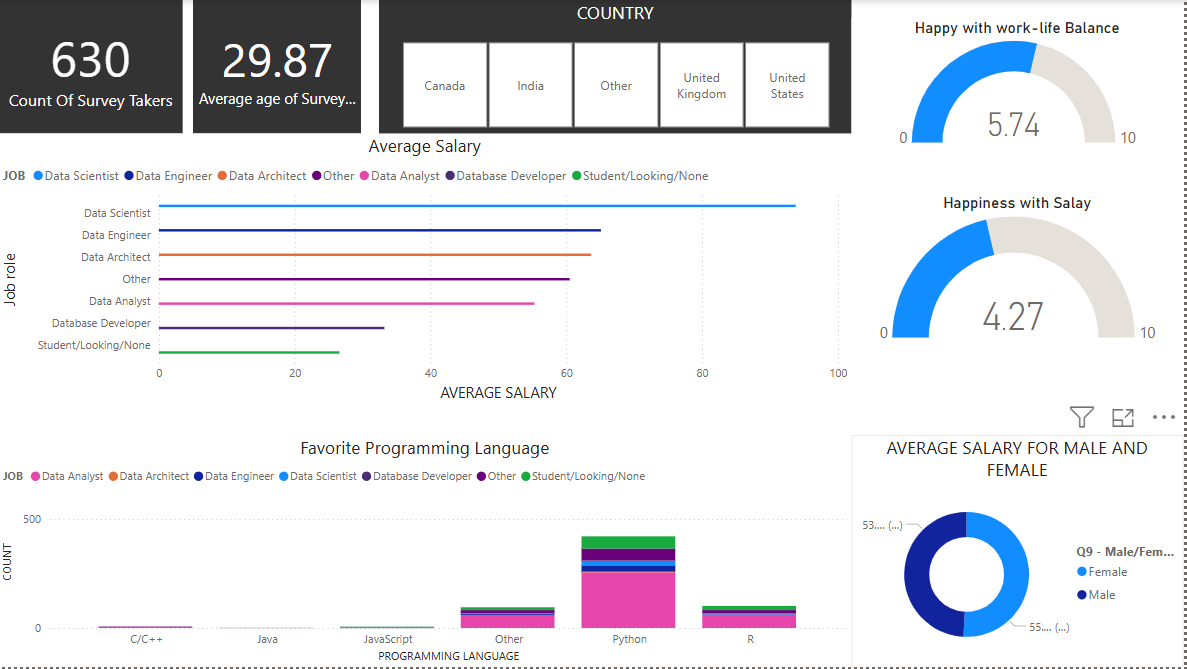

Layout of this report page (visuals, bound fields, positions):
{"tool":"powerbi","page":{"name":"Page 1","canvas":[1280,720],"ordinal":0},"visuals":[{"type":"card","fields":{"Values":["Data Professional Survey.UNIQUE COUNT"]},"box":[0,0,199.2,144.1],"z":0},{"type":"card","fields":{"Values":["Avg(Data Professional Survey.Q10 - Current Age)"]},"box":[210.5,0,181.4,144.1],"z":1000},{"type":"clusteredBarChart","title":"Average Salary ","fields":{"Series":["Data Professional Survey.Q1 - Which Title Best Fits your Current Role?.1"],"Category":["Data Professional Survey.Q1 - Which Title Best Fits your Current Role?.1"],"Y":["Avg(Data Professional Survey.AVERAGE)"]},"box":[0,144.1,921.3,294.7],"z":2000},{"type":"columnChart","title":"Favorite Programming Language","fields":{"Category":["Data Professional Survey.Q5 - Favorite Programming Language.1"],"Y":["CountNonNull(Data Professional Survey.Unique ID)"],"Series":["Data Professional Survey.Q1 - Which Title Best Fits your Current Role?.1"]},"box":[0,469.6,921.3,251],"z":3000},{"type":"slicer","title":"COUNTRY","fields":{"Values":["Data Professional Survey.Q11 - Which Country do you live in?.1"]},"box":[411.3,0,510.1,144.1],"z":4000},{"type":"gauge","title":"Happy with work-life Balance","fields":{"Y":["Avg(Data Professional Survey.Q6 - How Happy are you in your Current Position with the following? (Work/Life Balance))"],"MinValue":["Min(Data Professional Survey.Q6 - How Happy are you in your Current Position with the following? (Work/Life Balance))"],"MaxValue":["Max(Data Professional Survey.Q6 - How Happy are you in your Current Position with the following? (Work/Life Balance))1"]},"box":[921.3,19.4,357.8,144.1],"z":5000},{"type":"gauge","title":"Happiness with Salay","fields":{"Y":["Avg(Data Professional Survey.Q6 - How Happy are you in your Current Position with the following? (Salary))"],"MinValue":["Min(Data Professional Survey.Q6 - How Happy are you in your Current Position with the following? (Salary))1"],"MaxValue":["Max(Data Professional Survey.Q6 - How Happy are you in your Current Position with the following? (Salary))2"]},"box":[921.3,208.9,357.8,165.2],"z":6000},{"type":"donutChart","title":"AVERAGE SALARY FOR MALE AND FEMALE","fields":{"Y":["Avg(Data Professional Survey.AVERAGE)"],"Series":["Data Professional Survey.Q9 - Male/Female?"]},"box":[921.3,469.6,357.8,251],"z":7000}]}

Visuals, with their boxes in screenshot pixels (x1, y1, x2, y2), scaled from the page's 1280x720 canvas onto the 1187x669 screenshot:
card - Data Professional Survey.UNIQUE COUNT: 0,0,185,134
card - Avg(Data Professional Survey.Q10 - Current Age): 195,0,363,134
"Average Salary " clusteredBarChart: 0,134,854,408
"Favorite Programming Language" columnChart: 0,436,854,668
"COUNTRY" slicer: 381,0,854,134
"Happy with work-life Balance" gauge: 854,18,1186,152
"Happiness with Salay" gauge: 854,194,1186,348
"AVERAGE SALARY FOR MALE AND FEMALE" donutChart: 854,436,1186,668
